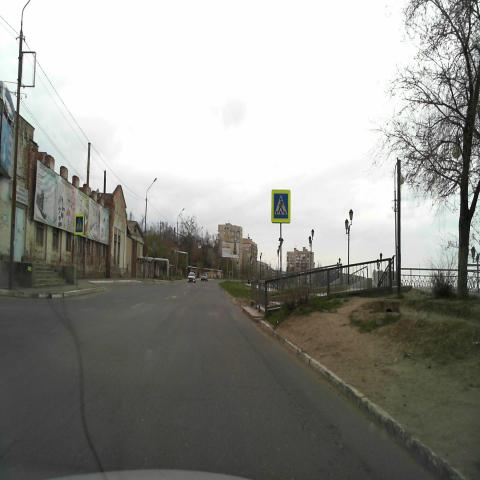5_19_1: (271, 189, 291, 223), (74, 214, 84, 234)
